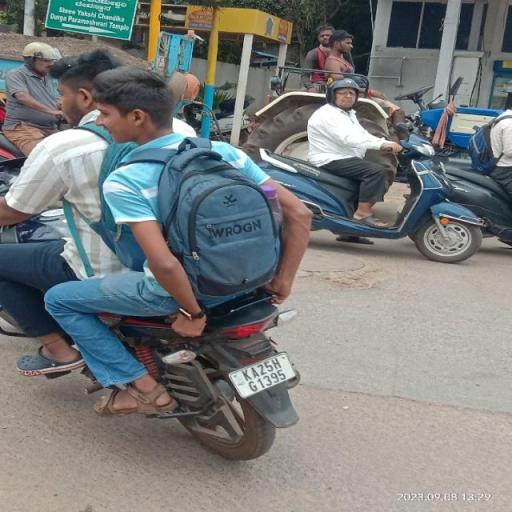bike: (2, 38, 315, 472)
numberplate: (224, 338, 308, 400)
withouthelmet: (86, 61, 168, 140), (57, 53, 107, 127)
